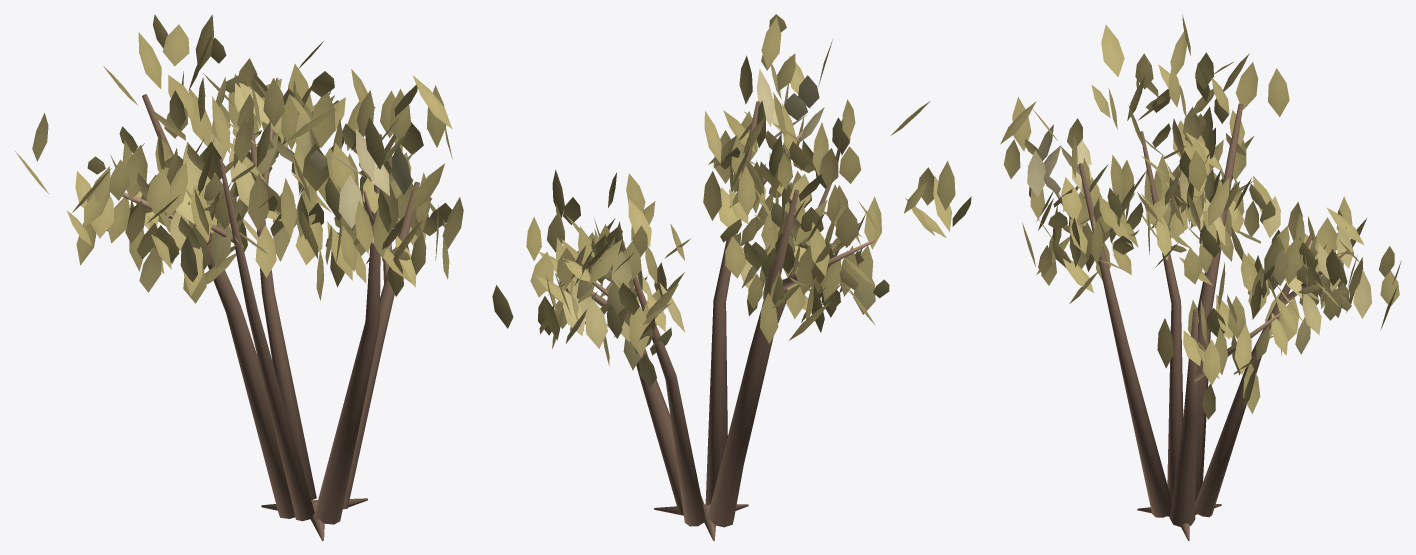
Rendered from bush_3d_03_yellow.glb.
The picture shows the model from 3 angles, left to right: view 1: azimuth 30°, elevation 25°; view 2: azimuth 150°, elevation 25°; view 3: azimuth 270°, elevation 25°; orthographic projection. The views are drawn at different scales.
Parts seen in each view (by area): view 1: bush_3d_03_yellow_foliage, bush_3d_03_yellow_wood; view 2: bush_3d_03_yellow_foliage, bush_3d_03_yellow_wood; view 3: bush_3d_03_yellow_foliage, bush_3d_03_yellow_wood.
Boxes of the visible parts, x1,y1,x2,y2 form: bush_3d_03_yellow_foliage: (15,14,463,303); bush_3d_03_yellow_wood: (122,78,419,540); bush_3d_03_yellow_foliage: (492,14,971,387); bush_3d_03_yellow_wood: (564,101,875,540); bush_3d_03_yellow_foliage: (1000,14,1401,419); bush_3d_03_yellow_wood: (1054,103,1349,540).
Bounding box in the file's own units: 2.07 × 2.25 × 1.9.
